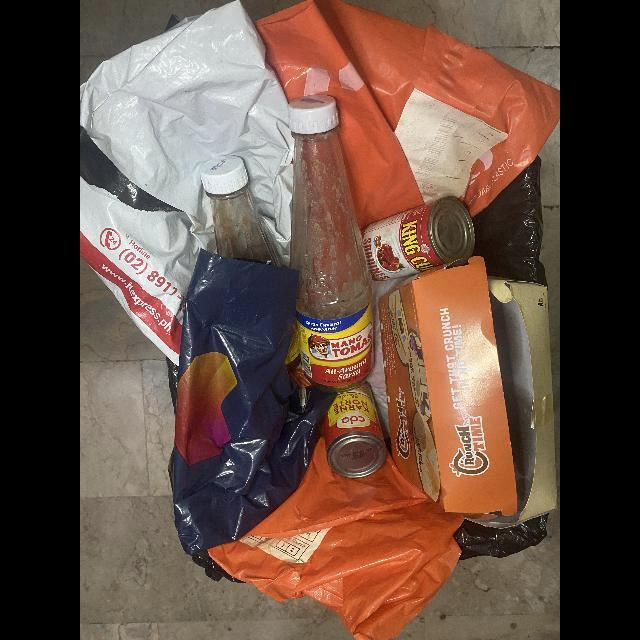aluminum: (363, 196, 472, 282), (323, 382, 387, 479)
cardboard: (378, 256, 558, 528)
glass_bottle: (289, 95, 372, 388), (200, 156, 281, 267)
plastic_bag: (80, 0, 295, 369), (255, 0, 560, 230), (170, 249, 337, 561), (208, 442, 465, 640)
